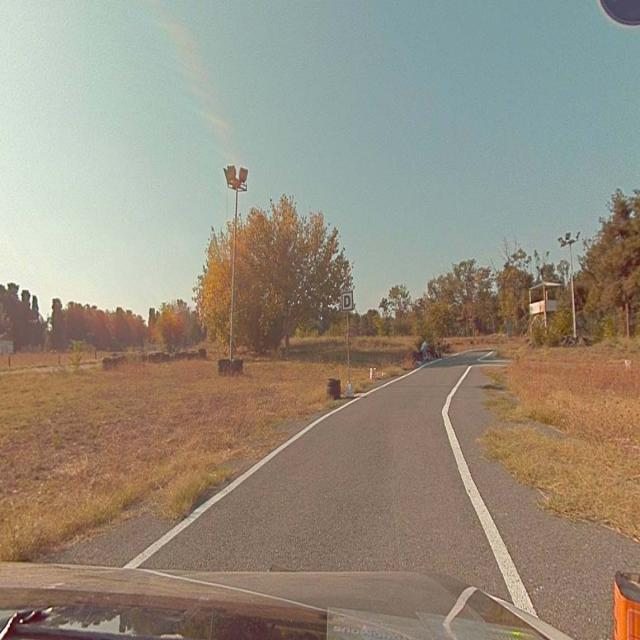durak: (342, 292, 353, 310)
